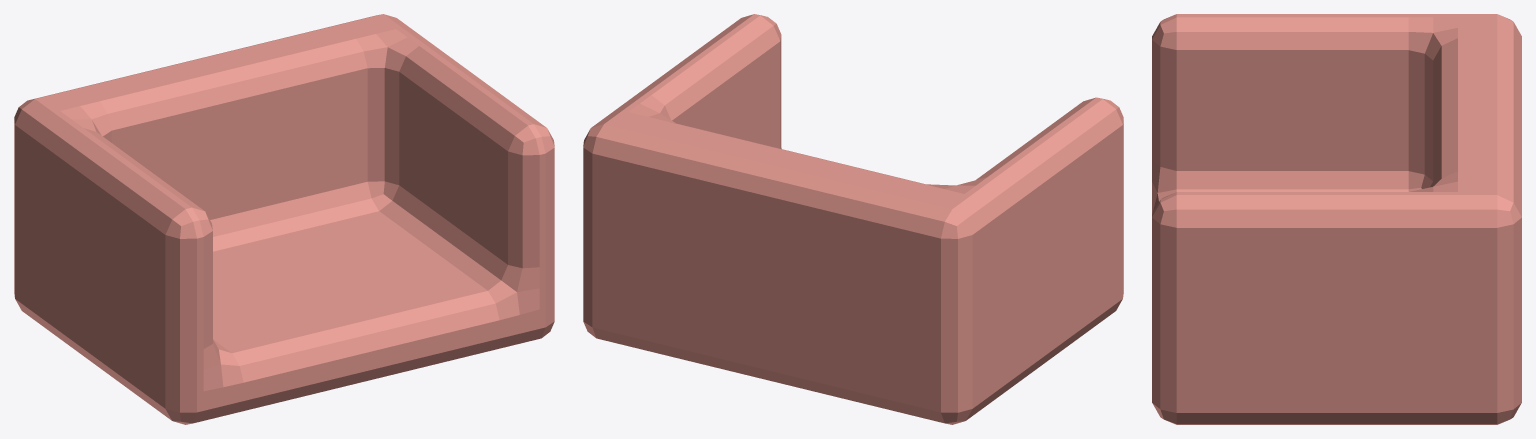
File: couch.002.gltf
3 renders of one model, left to right at view 1: azimuth 30°, elevation 25°; view 2: azimuth 150°, elevation 25°; view 3: azimuth 270°, elevation 25°, orthographic. The views are drawn at different scales.
Visible parts, largest first — view 1: couch.002; view 2: couch.002; view 3: couch.002.
Part boxes in pixels (left/top/right/bottom): couch.002: left=14, top=14, right=554, bottom=424; couch.002: left=583, top=14, right=1123, bottom=424; couch.002: left=1152, top=14, right=1521, bottom=424.
Size of the model in its own units: 1.16 by 0.6172 by 0.9.
